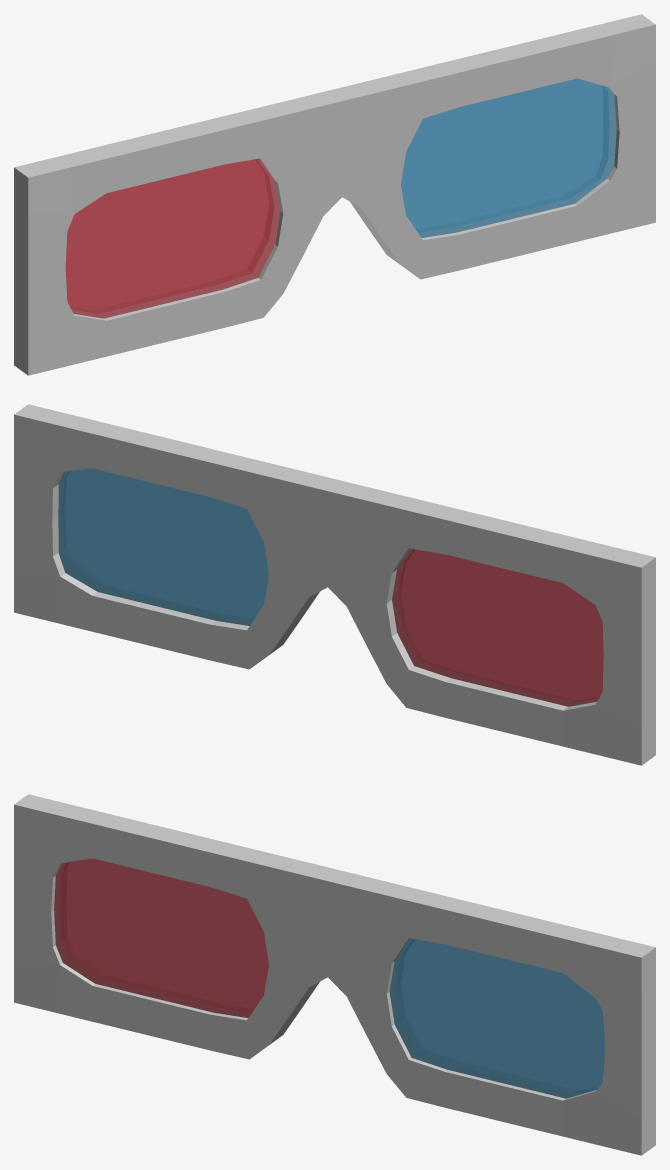
Rendered from 3D Glasses.fbx.
3 views of the same model, one above another, from view 1: azimuth 30°, elevation 25°; view 2: azimuth 150°, elevation 25°; view 3: azimuth 330°, elevation 25° (orthographic).
Parts seen in each view (by area): view 1: Cube.001; view 2: Cube.001; view 3: Cube.001.
Boxes of the visible parts, bbox=[...] form: Cube.001: bbox=[14, 14, 655, 375]; Cube.001: bbox=[14, 404, 655, 765]; Cube.001: bbox=[14, 794, 655, 1155].
Size of the model in its own units: 184 by 55.34 by 7.3.
